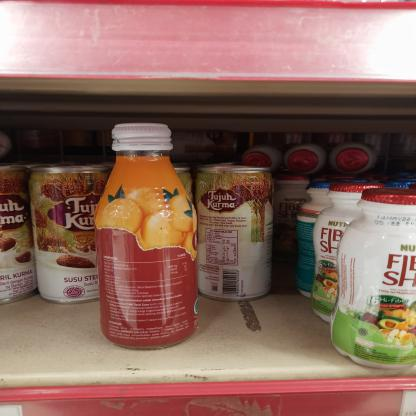keyboard: (93, 115, 201, 352)
mouse: (196, 161, 274, 303), (28, 170, 97, 312)
